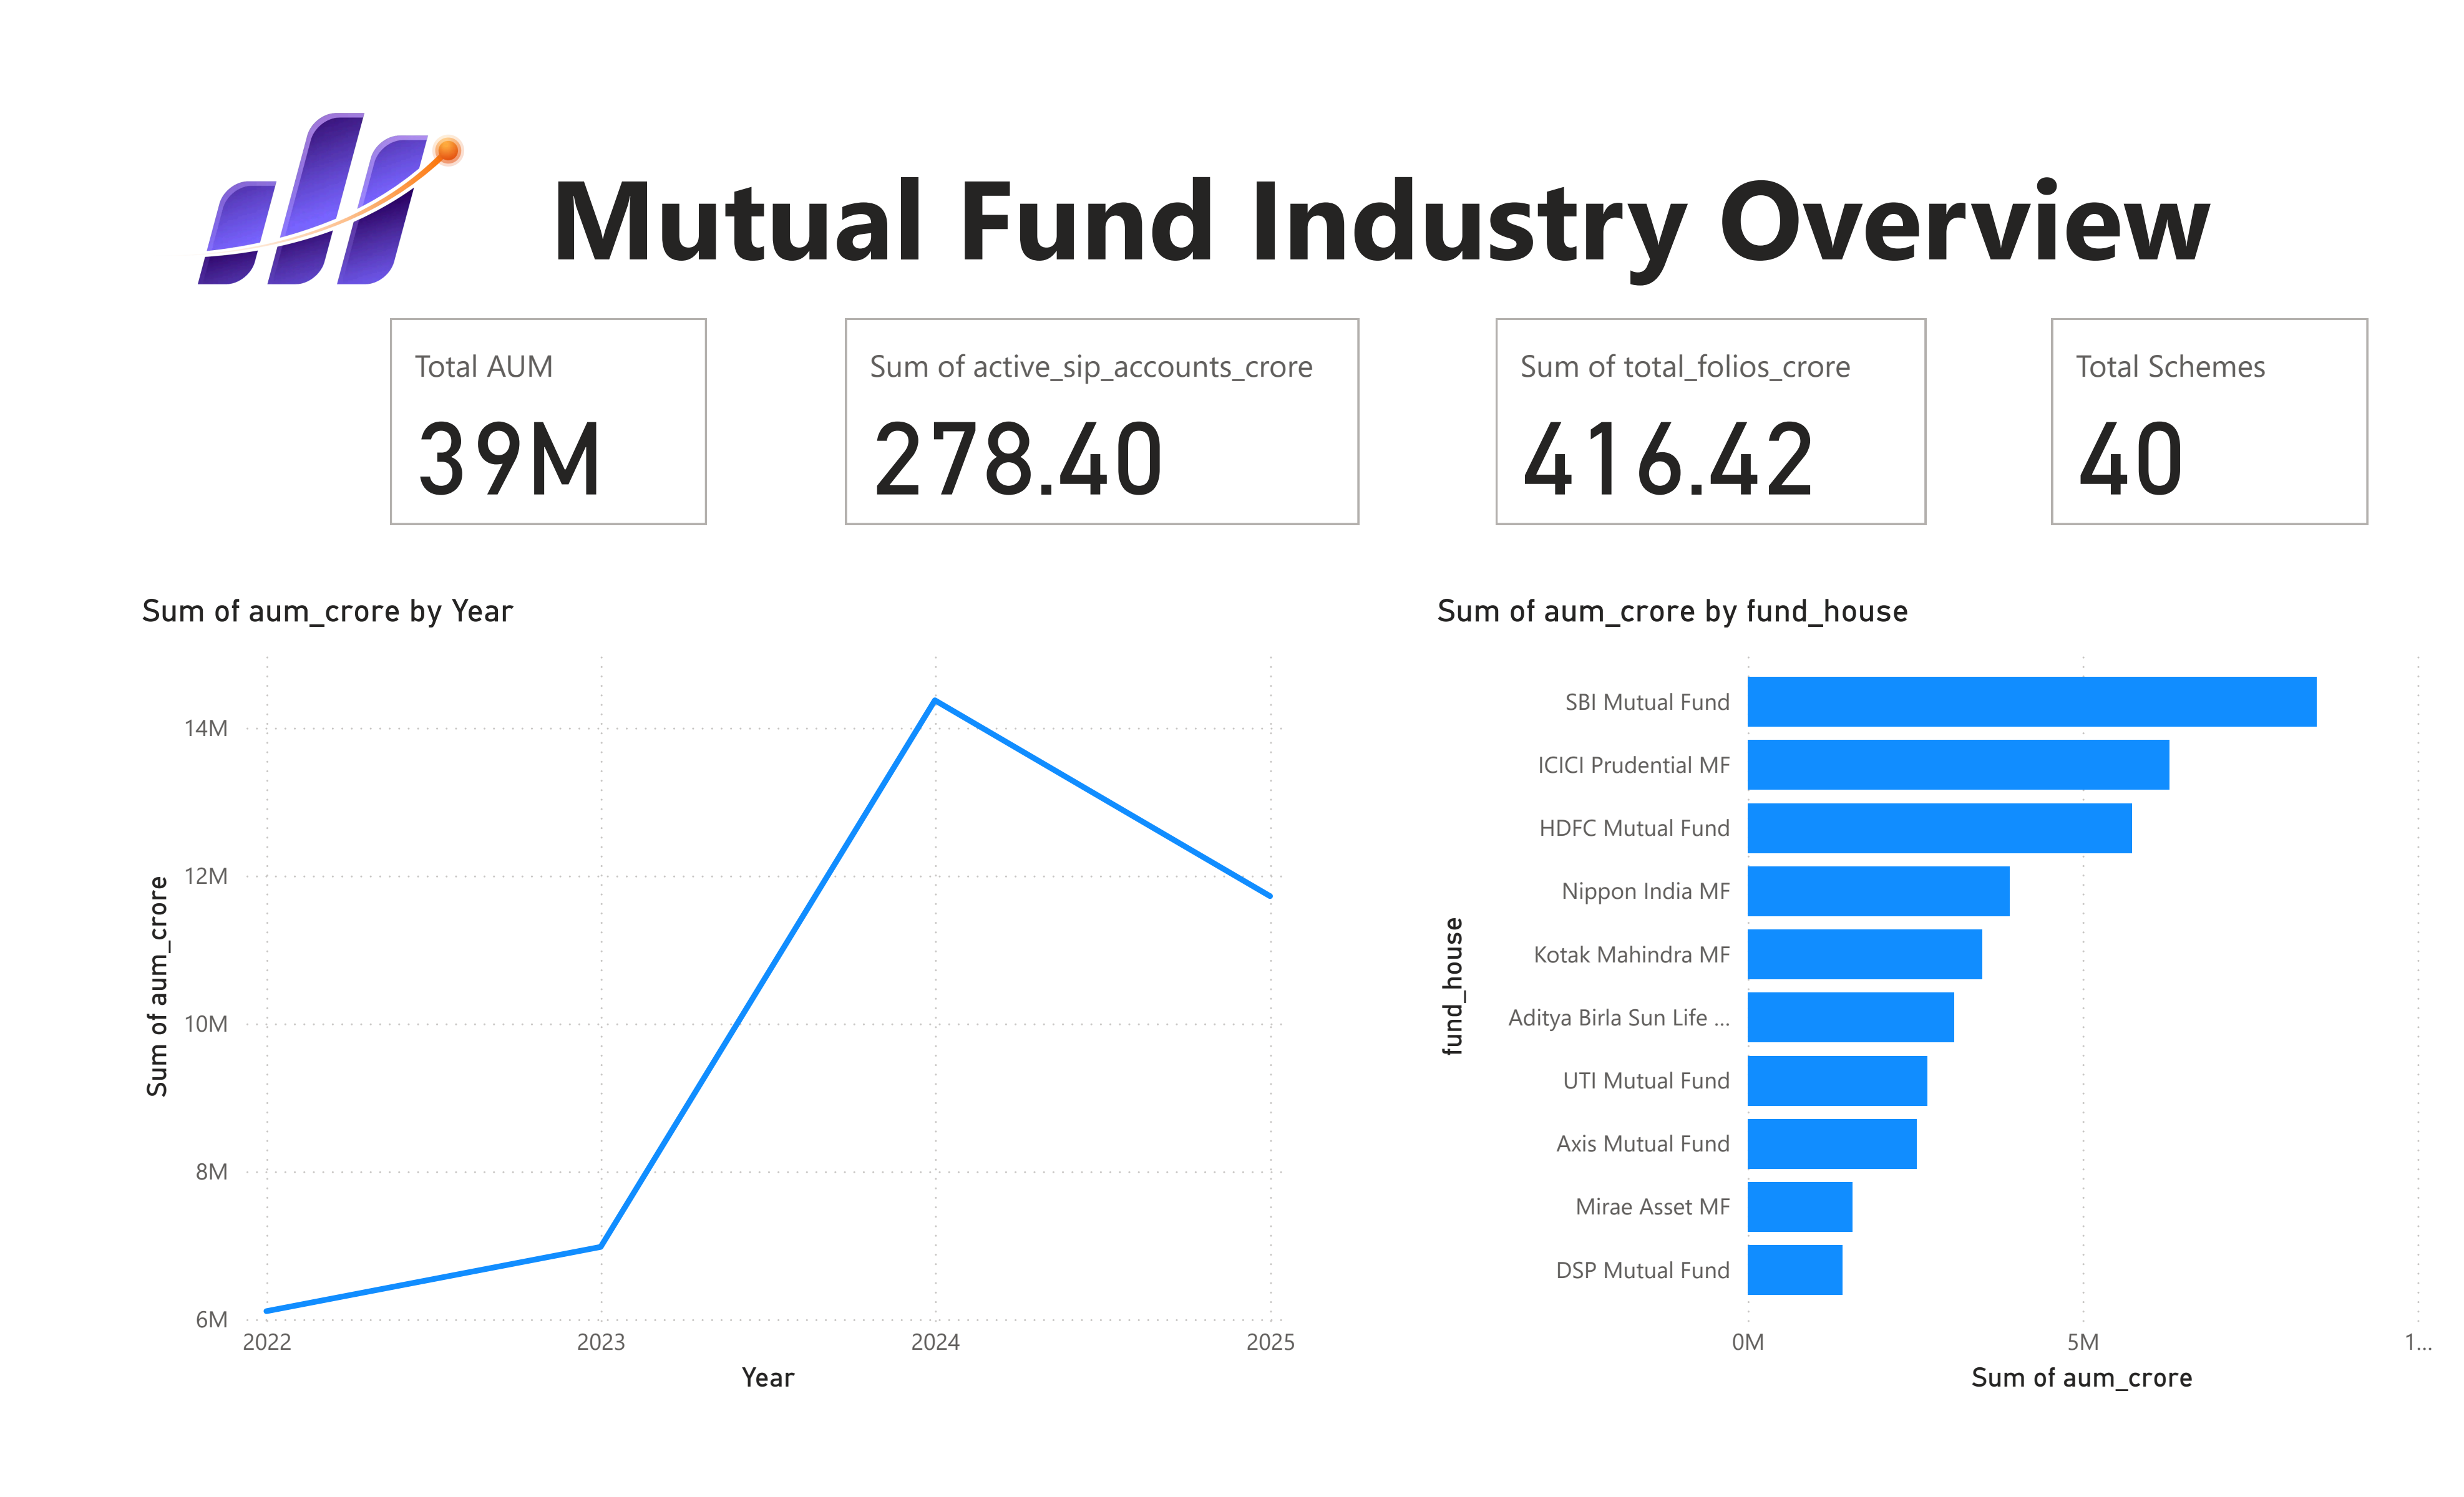

Layout of this report page (visuals, bound fields, positions):
{"tool":"powerbi","page":{"name":"Page 1","canvas":[1280,720],"ordinal":0},"visuals":[{"type":"textbox","box":[260.5,34,969.2,93.8],"z":0},{"type":"image","box":[45.3,11.3,179.6,116.5],"z":1000},{"type":"cardVisual","title":"Total AUM","fields":{"Data":["Sum(04_monthly_sip_inflows_cleaned.active_sip_accounts_crore)"]},"box":[415.8,127.8,281.5,119.7],"z":2000},{"type":"cardVisual","title":"Total AUM","fields":{"Data":["Sum(06_industry_folio_count_cleaned.total_folios_crore)"]},"box":[758.8,127.8,237.8,119.7],"z":3000},{"type":"cardVisual","title":"Total AUM","fields":{"Data":["01_fund_master_cleaned.Measure"]},"box":[1051.7,127.8,178,119.7],"z":4000},{"type":"cardVisual","title":"Total AUM","fields":{"Data":["Sum(03_aum_by_fund_house_cleaned.aum_crore)"]},"box":[176.4,127.8,178,119.7],"z":5000},{"type":"lineChart","fields":{"Category":["03_aum_by_fund_house_cleaned.date.Variation.Date Hierarchy.Year"],"Y":["Sum(03_aum_by_fund_house_cleaned.aum_crore)"]},"box":[45.3,276.7,618.1,428.8],"z":6000},{"type":"clusteredBarChart","fields":{"Y":["Sum(03_aum_by_fund_house_cleaned.aum_crore)"],"Category":["03_aum_by_fund_house_cleaned.fund_house"]},"box":[728.1,276.7,535.6,428.8],"z":7000}]}

Visuals, with their boxes on the page's 1280x720 design canvas (x1, y1, x2, y2). These are canvas units, not pixel positions in the 2464x1497 screenshot, which may show the page scaled, cropped or inside an application window:
textbox: 260/34/1230/128
image: 45/11/225/128
"Total AUM" cardVisual: 416/128/697/248
"Total AUM" cardVisual: 759/128/997/248
"Total AUM" cardVisual: 1052/128/1230/248
"Total AUM" cardVisual: 176/128/354/248
lineChart - 03_aum_by_fund_house_cleaned.date.Variation.Date Hierarchy.Year x Sum(03_aum_by_fund_house_cleaned.aum_crore): 45/277/663/706
clusteredBarChart - Sum(03_aum_by_fund_house_cleaned.aum_crore) x 03_aum_by_fund_house_cleaned.fund_house: 728/277/1264/706
